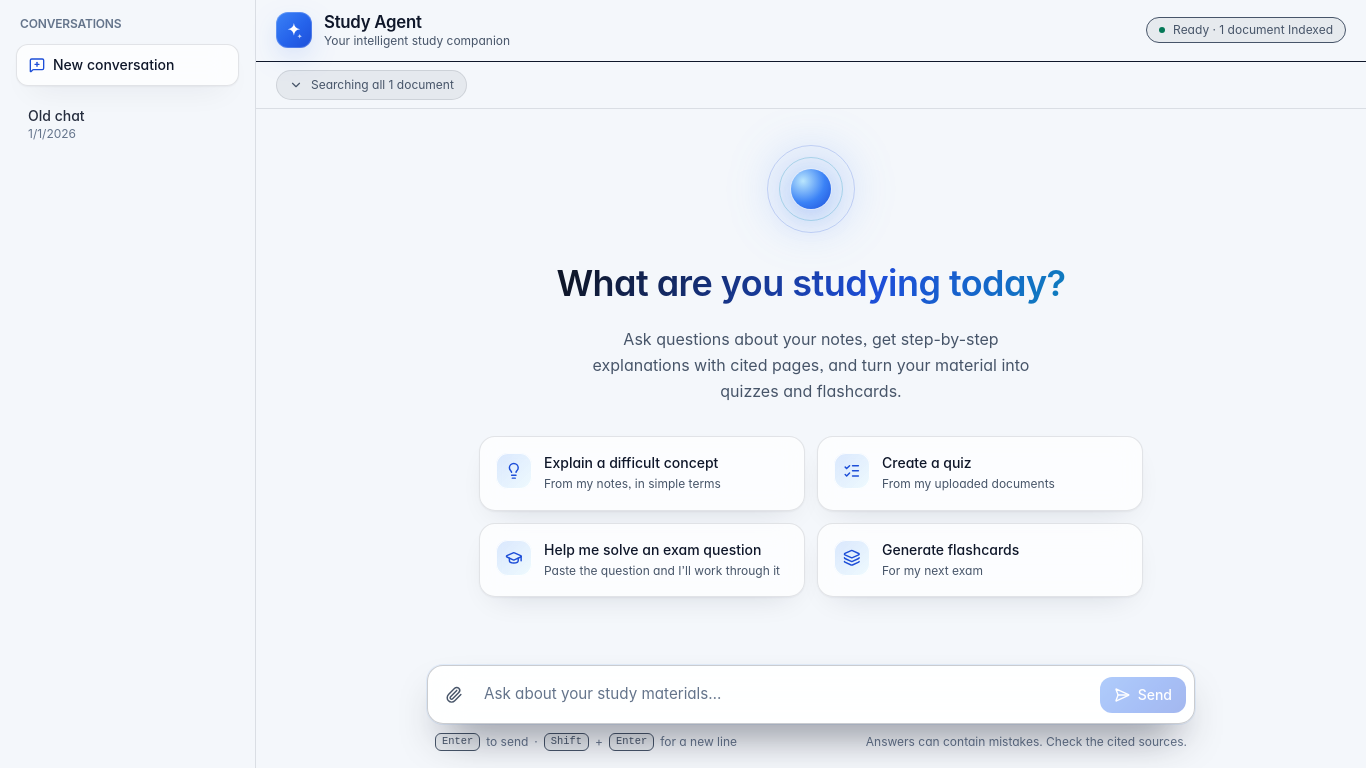
Test case: StudyChat › opens a saved conversation with its sources
Click the button "Old chat 1/1/2026" at {"x": 112, "y": 124}, box [16,98,207,150]
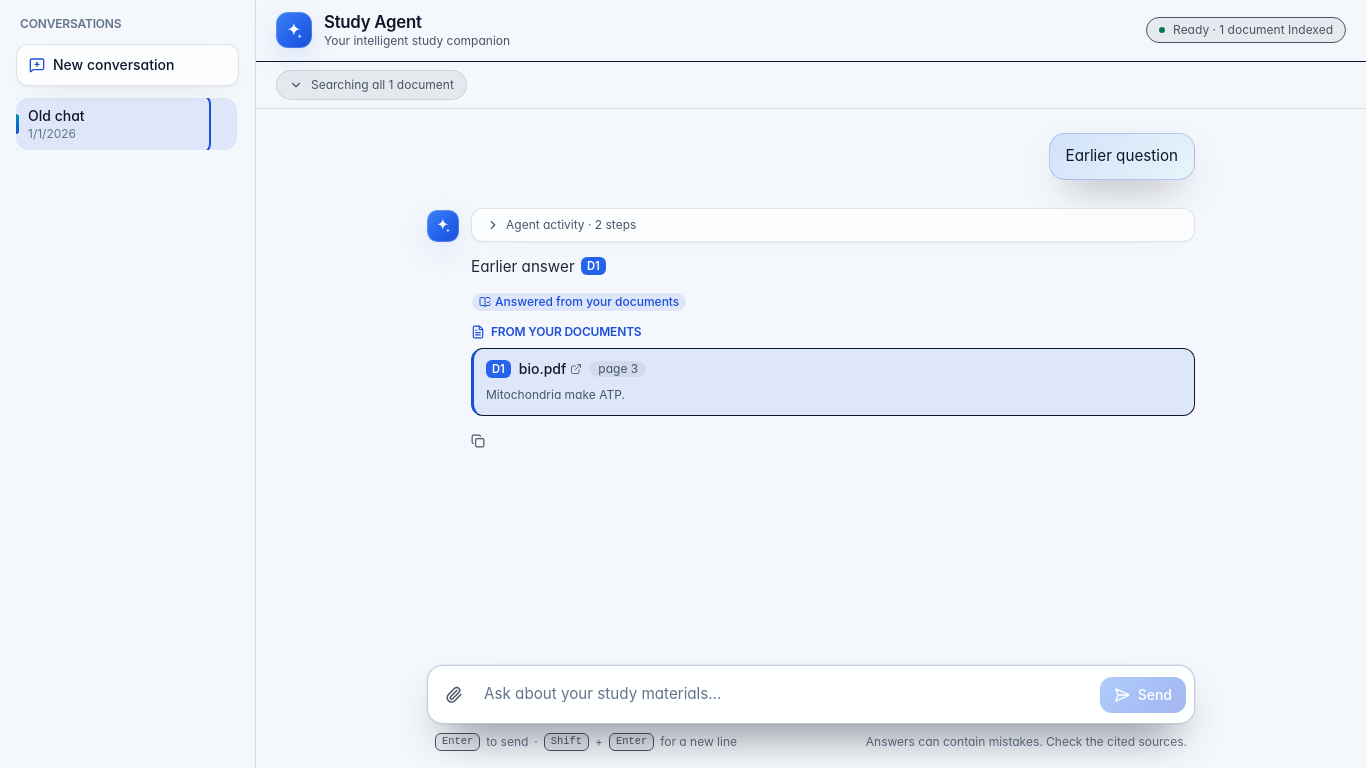
Expected: the text "Earlier question" is shown, [1048,133,1195,180]
Expected: the link "bio.pdf" is shown, [519,359,582,379]
